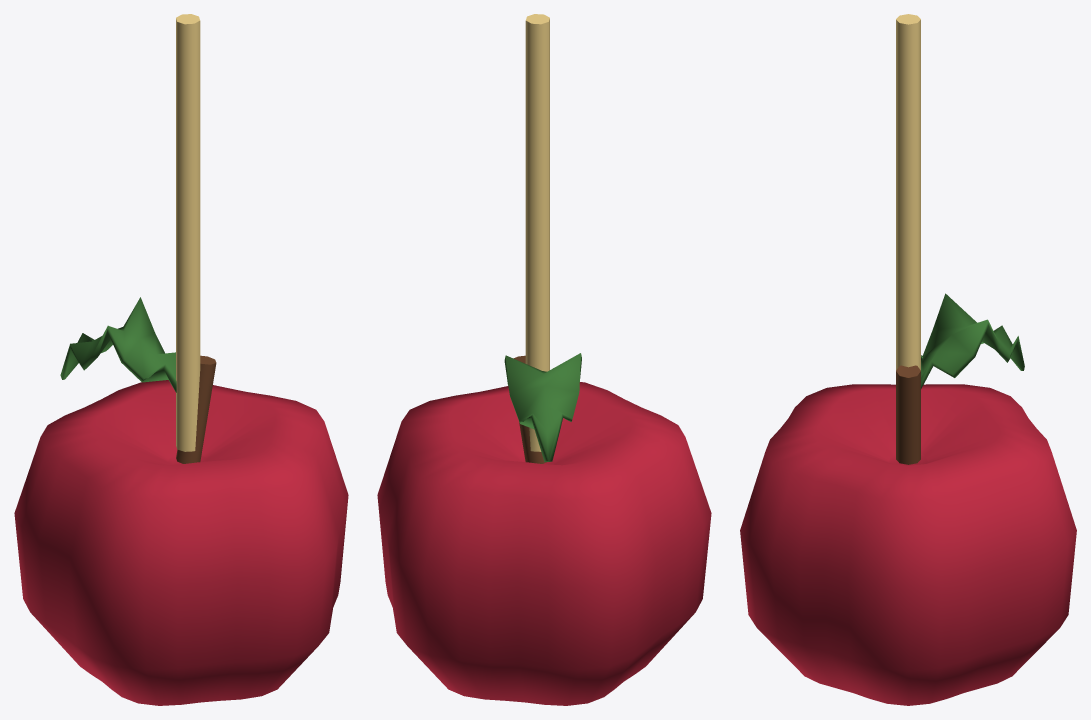
Rendered from candy-apple.glb.
The picture shows the model from 3 angles, left to right: view 1: azimuth 30°, elevation 25°; view 2: azimuth 150°, elevation 25°; view 3: azimuth 270°, elevation 25°; orthographic projection.
Parts seen in each view (by area): view 1: edible_apple.004, container_stick.001, edible_leaf.005, edible_stem.008; view 2: edible_apple.004, container_stick.001, edible_leaf.005, edible_stem.008; view 3: edible_apple.004, container_stick.001, edible_leaf.005, edible_stem.008.
Boxes of the visible parts, left/top/right/bottom form: edible_apple.004: left=14, top=380, right=348, bottom=705; container_stick.001: left=176, top=14, right=200, bottom=451; edible_leaf.005: left=60, top=297, right=176, bottom=392; edible_stem.008: left=176, top=355, right=216, bottom=463; edible_apple.004: left=377, top=382, right=711, bottom=705; container_stick.001: left=525, top=14, right=549, bottom=451; edible_leaf.005: left=504, top=353, right=581, bottom=461; edible_stem.008: left=513, top=355, right=546, bottom=463; edible_apple.004: left=740, top=384, right=1076, bottom=705; container_stick.001: left=896, top=14, right=920, bottom=370; edible_leaf.005: left=921, top=293, right=1024, bottom=388; edible_stem.008: left=896, top=365, right=920, bottom=464.
Size of the model in its own units: 0.1046 by 0.23 by 0.1075.
